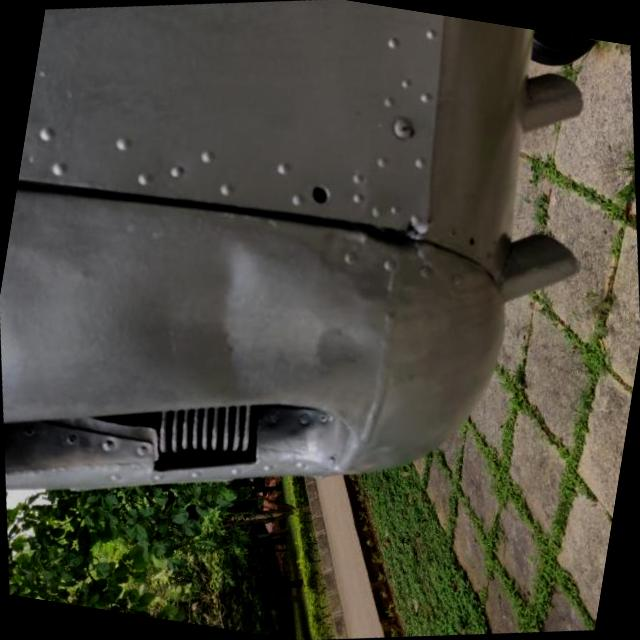Missing Fastener: (312, 183, 334, 204)
dent: (96, 194, 366, 410)
